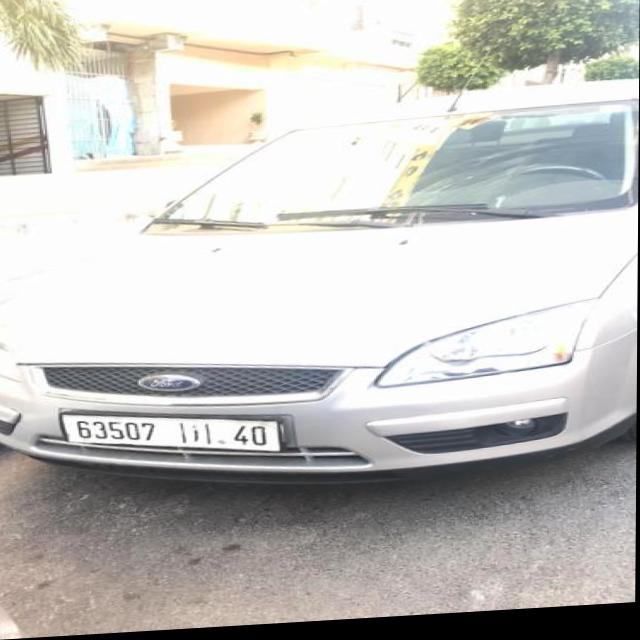License-Plate: (62, 416, 280, 455)
